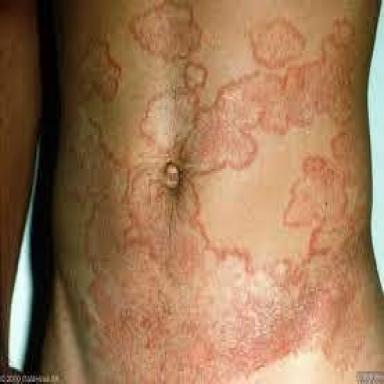Tinea-Corporis: (58, 114, 333, 382), (142, 19, 354, 172), (283, 136, 354, 256), (131, 0, 200, 63), (78, 34, 121, 102)
